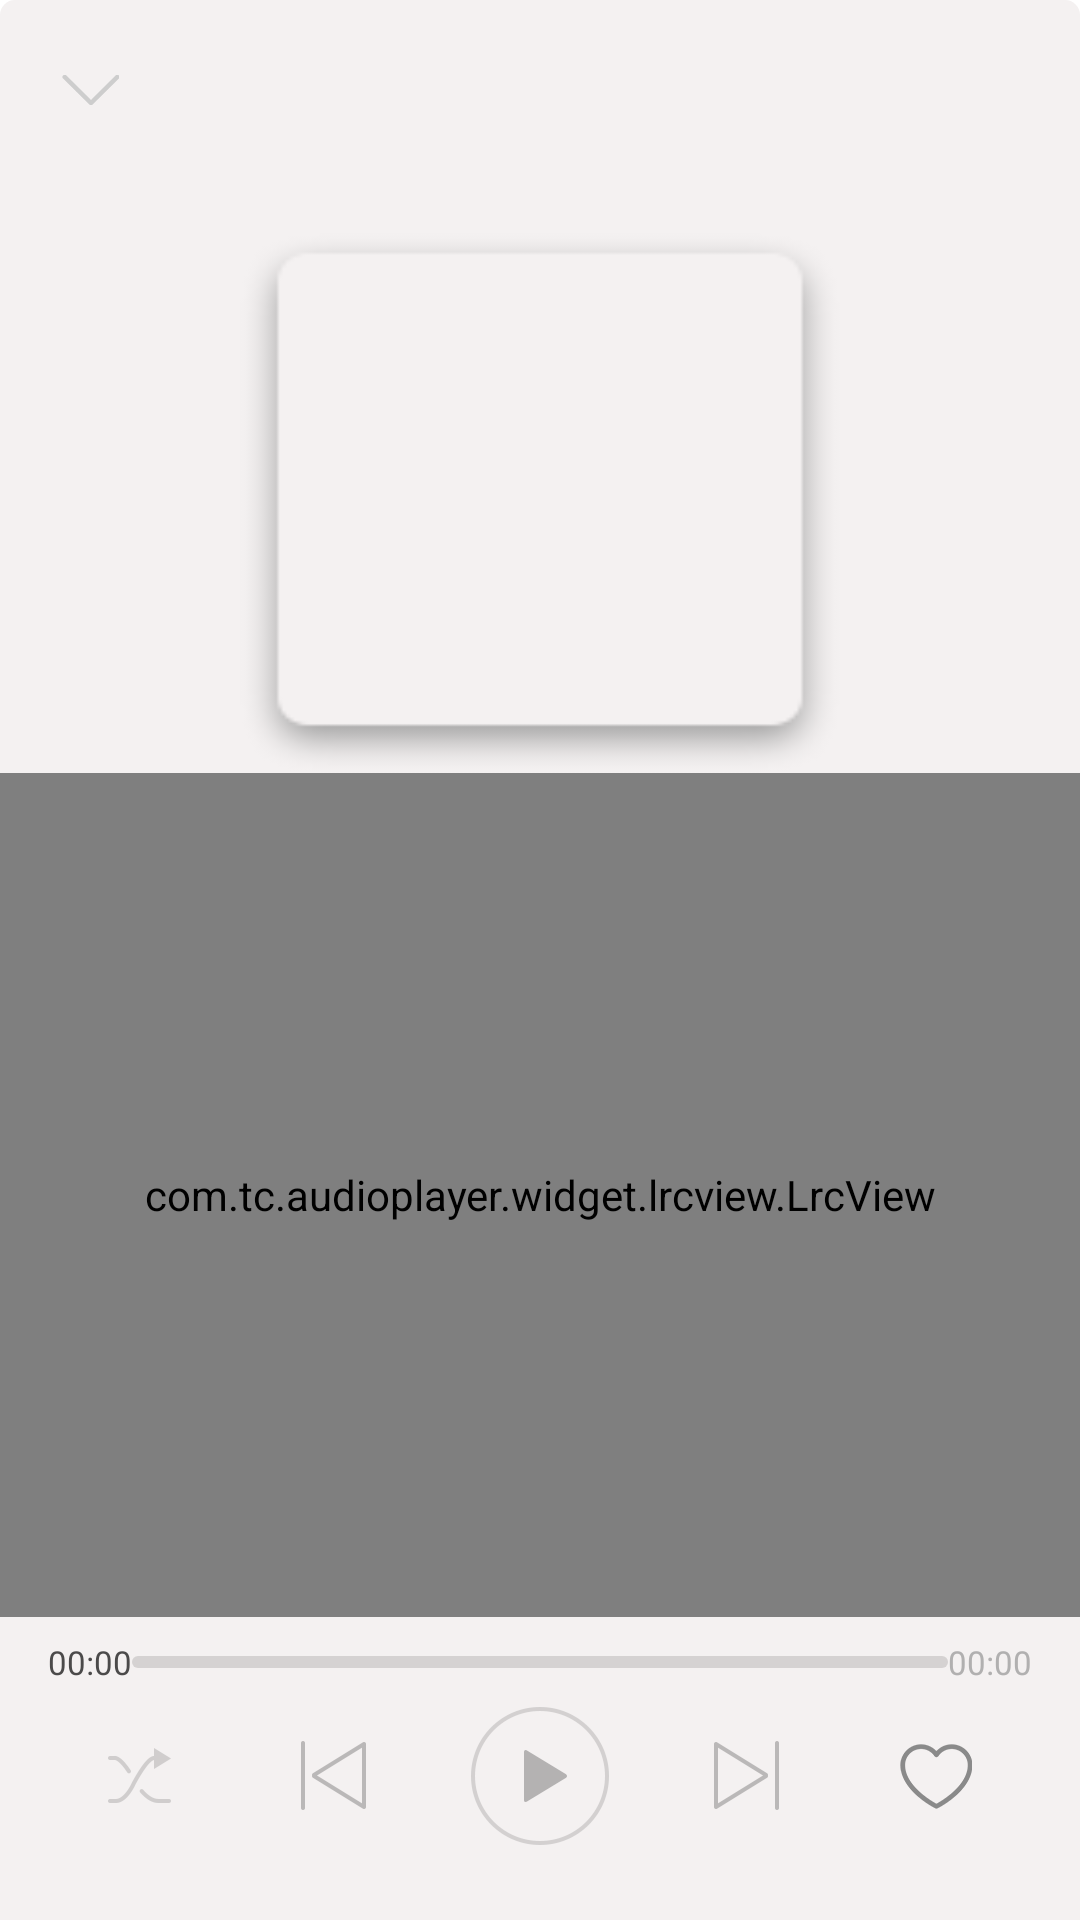

Icon click points for this 1080 x 1920 phone screenshot, format (x=x, y=y):
arrow down: (x=91, y=90)
fav: (x=936, y=1776)
mode random: (x=139, y=1775)
next: (x=746, y=1775)
prev: (x=333, y=1775)
